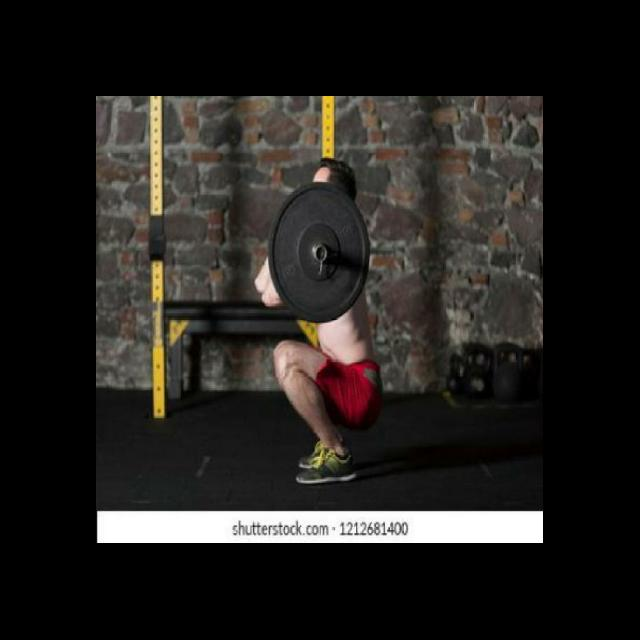barbell: (265, 180, 375, 329)
